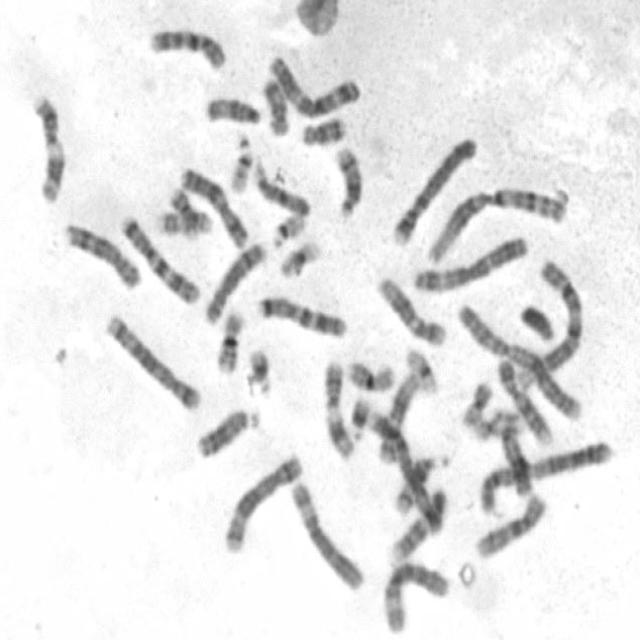A1: (422, 186, 569, 265), (514, 259, 584, 391)
A2: (454, 302, 586, 424), (477, 440, 616, 516)
A3: (410, 236, 529, 295), (268, 52, 362, 120)
B4: (366, 409, 446, 538), (392, 135, 478, 246)
B5: (102, 312, 206, 414), (223, 451, 306, 558)
C10: (473, 493, 549, 563), (148, 27, 228, 73)
C11: (29, 90, 68, 205), (321, 358, 357, 463)
C12: (374, 273, 447, 349), (374, 372, 422, 467)
C6: (290, 477, 366, 593), (382, 559, 452, 635)
C7: (118, 212, 201, 305), (256, 293, 350, 341)
C8: (202, 237, 268, 327), (65, 220, 143, 294)
C9: (496, 356, 555, 446), (385, 486, 448, 566)
D13: (195, 406, 261, 462), (498, 423, 537, 499)
D14: (394, 453, 452, 517), (331, 144, 366, 219)
D15: (252, 153, 313, 219), (203, 95, 262, 127)
E16: (214, 312, 244, 377), (346, 360, 397, 392)
E17: (155, 208, 215, 240), (473, 411, 523, 442)
E18: (261, 77, 292, 138), (302, 115, 348, 149)
F19: (277, 239, 321, 282), (405, 345, 440, 396)
F20: (460, 378, 495, 430), (167, 187, 200, 239)
G21: (248, 346, 274, 399), (350, 396, 372, 444)
G22: (268, 209, 308, 250), (228, 132, 254, 195)
X: (179, 165, 252, 252)
Y: (519, 302, 557, 343)
